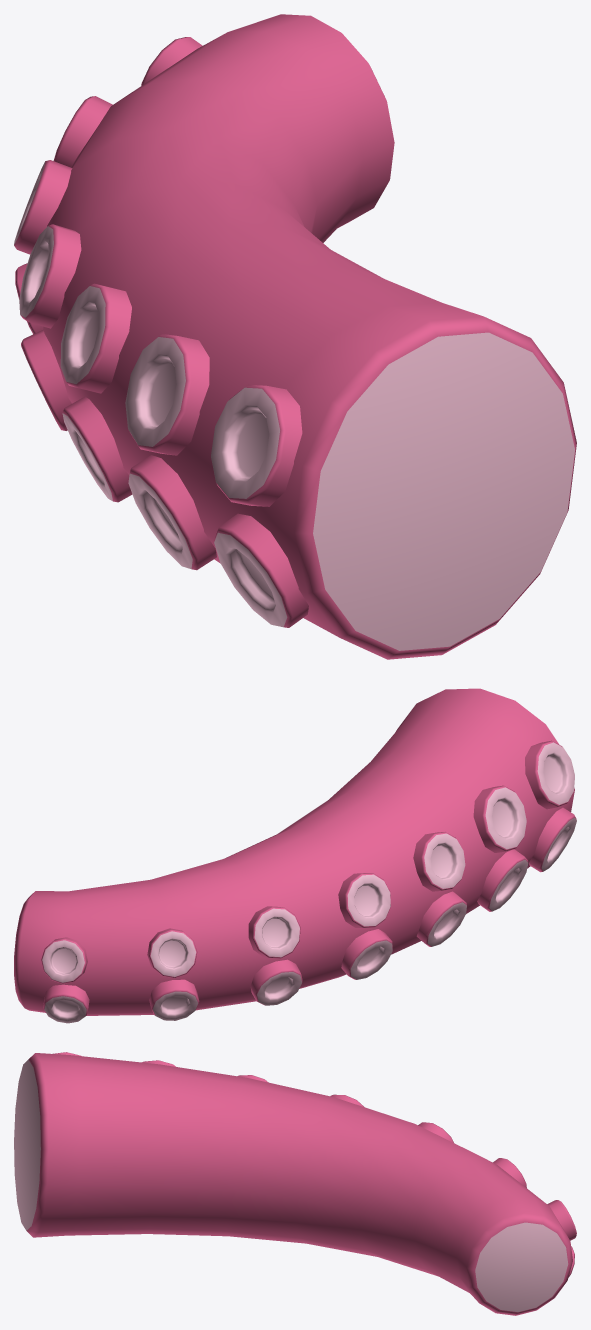
Rendered from Octopus_Tentacles_1_Piece_2.fbx.
3 renders of one model, top to bottom at view 1: azimuth 30°, elevation 25°; view 2: azimuth 150°, elevation 25°; view 3: azimuth 270°, elevation 25°, orthographic. The views are drawn at different scales.
Parts seen in each view (by area): view 1: Octopus_Tentacles_1_Piece_2; view 2: Octopus_Tentacles_1_Piece_2; view 3: Octopus_Tentacles_1_Piece_2.
Part boxes in pixels (<box>): Octopus_Tentacles_1_Piece_2: <box>14,14,576,659</box>; Octopus_Tentacles_1_Piece_2: <box>14,688,576,1023</box>; Octopus_Tentacles_1_Piece_2: <box>14,1052,576,1315</box>.
Size of the model in its own units: 17 by 9.46 by 28.44.
